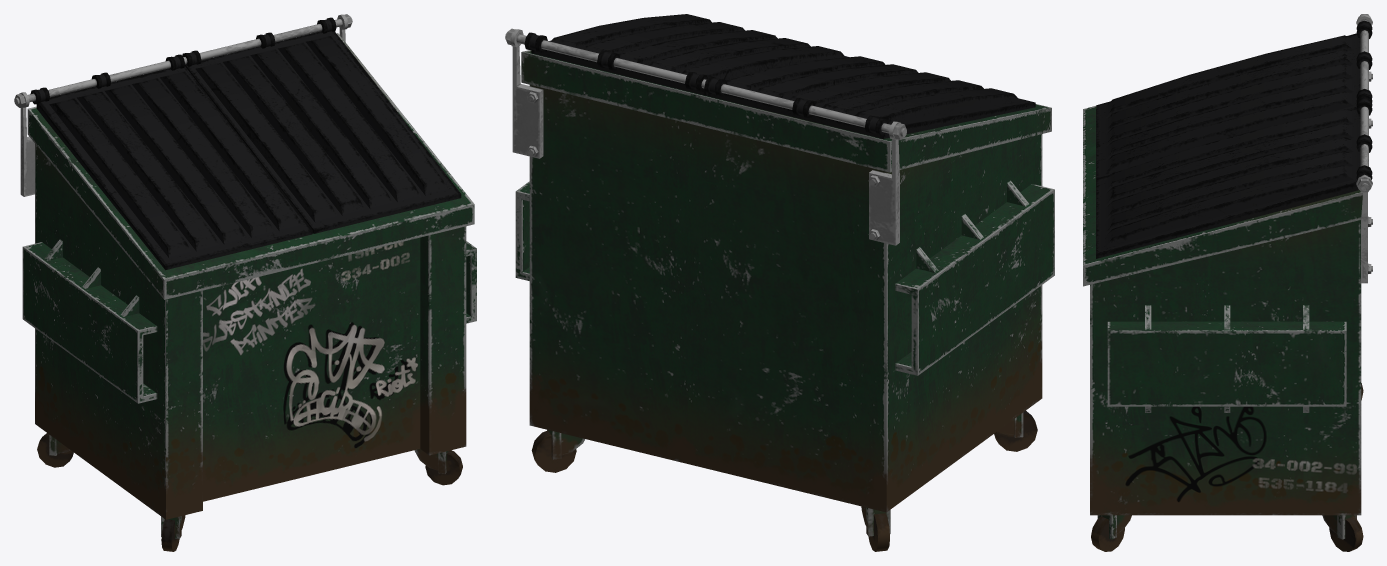
The model's file is trash_can.glb.
3 renders of one model, left to right at view 1: azimuth 30°, elevation 25°; view 2: azimuth 150°, elevation 25°; view 3: azimuth 270°, elevation 25°, orthographic. The views are drawn at different scales.
Visible parts, largest first — view 1: 1_low, 5_low, 2_low, 9_low, 7_low, 8_low, 3_low, 6_low, 4_low; view 2: 1_low, 5_low, 2_low, 3_low, 9_low, 7_low, 8_low, 6_low, 4_low; view 3: 1_low, 5_low, 2_low, 7_low, 8_low, 9_low, 6_low, 4_low, 3_low.
Boxes of the visible parts, box(x1,y1,x2,y2) form: 1_low: box(27, 33, 474, 519); 5_low: box(36, 31, 461, 270); 2_low: box(22, 241, 476, 403); 9_low: box(14, 17, 352, 105); 7_low: box(37, 433, 462, 551); 8_low: box(30, 17, 336, 104); 3_low: box(20, 28, 345, 196); 6_low: box(49, 435, 448, 538); 4_low: box(44, 239, 139, 316); 1_low: box(521, 50, 1051, 512); 5_low: box(531, 14, 1035, 138); 2_low: box(515, 181, 1054, 375); 3_low: box(512, 46, 899, 245); 9_low: box(505, 32, 906, 136); 7_low: box(531, 410, 1037, 551); 8_low: box(524, 32, 887, 135); 6_low: box(547, 412, 1023, 536); 4_low: box(916, 180, 1028, 272); 1_low: box(1083, 106, 1362, 515); 5_low: box(1096, 33, 1360, 258); 2_low: box(1107, 321, 1346, 406); 7_low: box(1091, 383, 1363, 551); 8_low: box(1356, 20, 1372, 179); 9_low: box(1360, 19, 1368, 191); 6_low: box(1097, 515, 1356, 539); 4_low: box(1145, 305, 1309, 412); 3_low: box(1361, 192, 1367, 283).
Size of the model in its own units: 1.61 by 1.69 by 1.16.
Materials: 1 (1 with a texture image).
